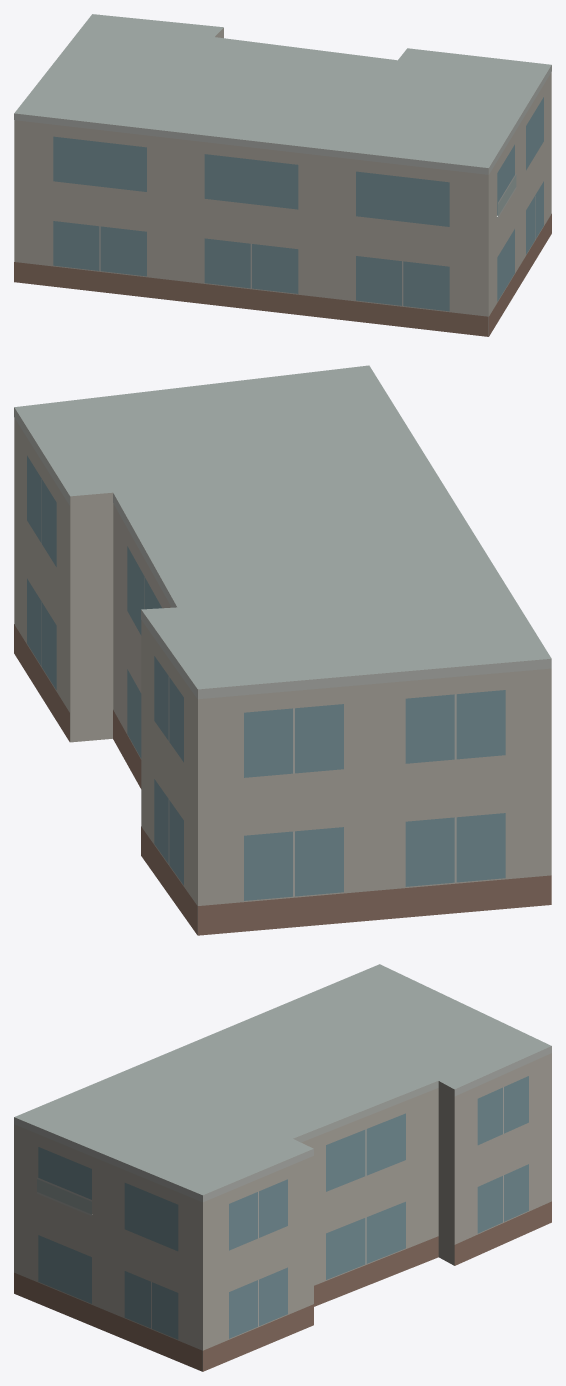
The model's file is survey-upis-32686250.glb.
3 views of the same model, one above another, from view 1: azimuth 30°, elevation 25°; view 2: azimuth 150°, elevation 25°; view 3: azimuth 270°, elevation 25° (orthographic). The views are drawn at different scales.
Visible parts, largest first — view 1: survey-upis-32686250.tmp; view 2: survey-upis-32686250.tmp; view 3: survey-upis-32686250.tmp.
Part boxes in pixels (box(x1,y1,x2,y2)): survey-upis-32686250.tmp: box(14, 14, 551, 336); survey-upis-32686250.tmp: box(14, 365, 551, 935); survey-upis-32686250.tmp: box(14, 964, 551, 1371).
Bounding box in the file's own units: 17.15 × 6.1 × 16.85.
